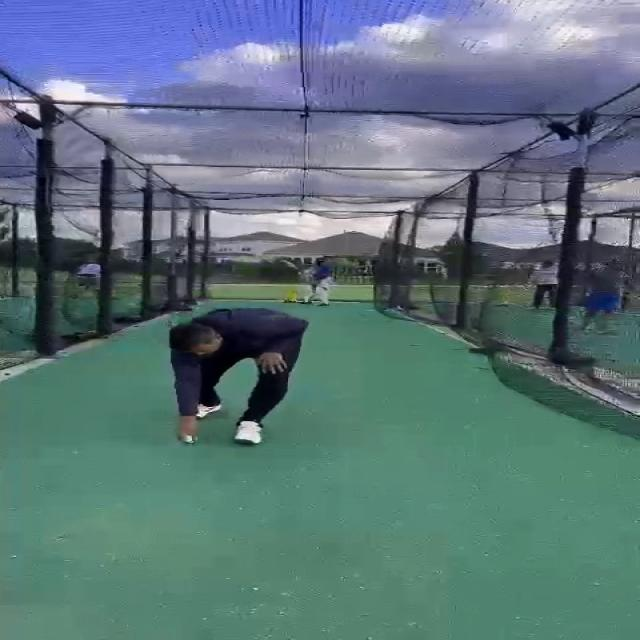batsman: (280, 257, 337, 307)
